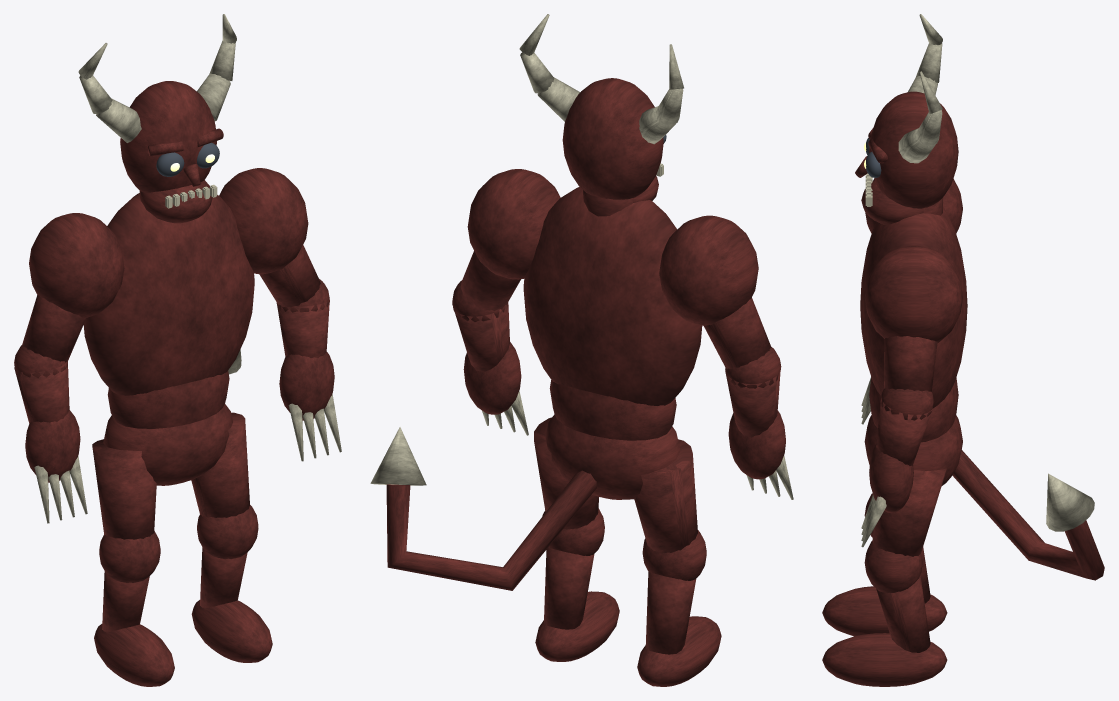
File: enemy_bes.glb
The picture shows the model from 3 angles, left to right: view 1: azimuth 30°, elevation 25°; view 2: azimuth 150°, elevation 25°; view 3: azimuth 270°, elevation 25°; orthographic projection. The views are drawn at different scales.
Visible parts, largest first — view 1: Demon_hide, Demon_hide.002, Demon_hide.004, Demon_hide.001, Demon_hide.003, Demon_hide.005, Aged_bone.002, Aged_bone, Aged_bone.001, Eye_socket; view 2: Demon_hide, Demon_hide.002, Demon_hide.004, Demon_hide.001, Demon_hide.005, Demon_hide.003, Demon_hide.006, Aged_bone.002, Aged_bone.003; view 3: Demon_hide.004, Demon_hide.003, Demon_hide, Demon_hide.005, Demon_hide.006, Demon_hide.001, Aged_bone.002, Aged_bone.003, Demon_hide.002, Aged_bone.001.
Part boxes in pixels (bbox=[...]): Demon_hide: bbox=[83, 193, 254, 485]; Demon_hide.002: bbox=[14, 213, 124, 482]; Demon_hide.004: bbox=[219, 168, 334, 420]; Demon_hide.001: bbox=[92, 439, 174, 686]; Demon_hide.003: bbox=[191, 412, 272, 662]; Demon_hide.005: bbox=[120, 81, 223, 223]; Aged_bone.002: bbox=[78, 14, 236, 208]; Aged_bone: bbox=[34, 456, 87, 523]; Aged_bone.001: bbox=[288, 394, 341, 461]; Eye_socket: bbox=[156, 142, 219, 176]; Demon_hide: bbox=[523, 187, 702, 499]; Demon_hide.002: bbox=[659, 215, 785, 479]; Demon_hide.004: bbox=[452, 169, 560, 414]; Demon_hide.001: bbox=[634, 439, 721, 686]; Demon_hide.005: bbox=[562, 78, 663, 216]; Demon_hide.003: bbox=[534, 417, 619, 661]; Demon_hide.006: bbox=[386, 470, 596, 590]; Aged_bone.002: bbox=[519, 14, 683, 176]; Aged_bone.003: bbox=[370, 427, 426, 485]; Demon_hide.004: bbox=[864, 245, 962, 513]; Demon_hide.003: bbox=[822, 468, 947, 686]; Demon_hide: bbox=[860, 207, 967, 486]; Demon_hide.005: bbox=[855, 91, 958, 224]; Demon_hide.006: bbox=[952, 450, 1104, 580]; Demon_hide.001: bbox=[822, 493, 947, 636]; Aged_bone.002: bbox=[865, 14, 942, 206]; Aged_bone.003: bbox=[1046, 473, 1094, 531]; Demon_hide.002: bbox=[865, 178, 962, 233]; Aged_bone.001: bbox=[861, 495, 886, 547].
Size of the model in its own units: 1.23 by 2.38 by 0.9854.
4 materials, 2 textured.
